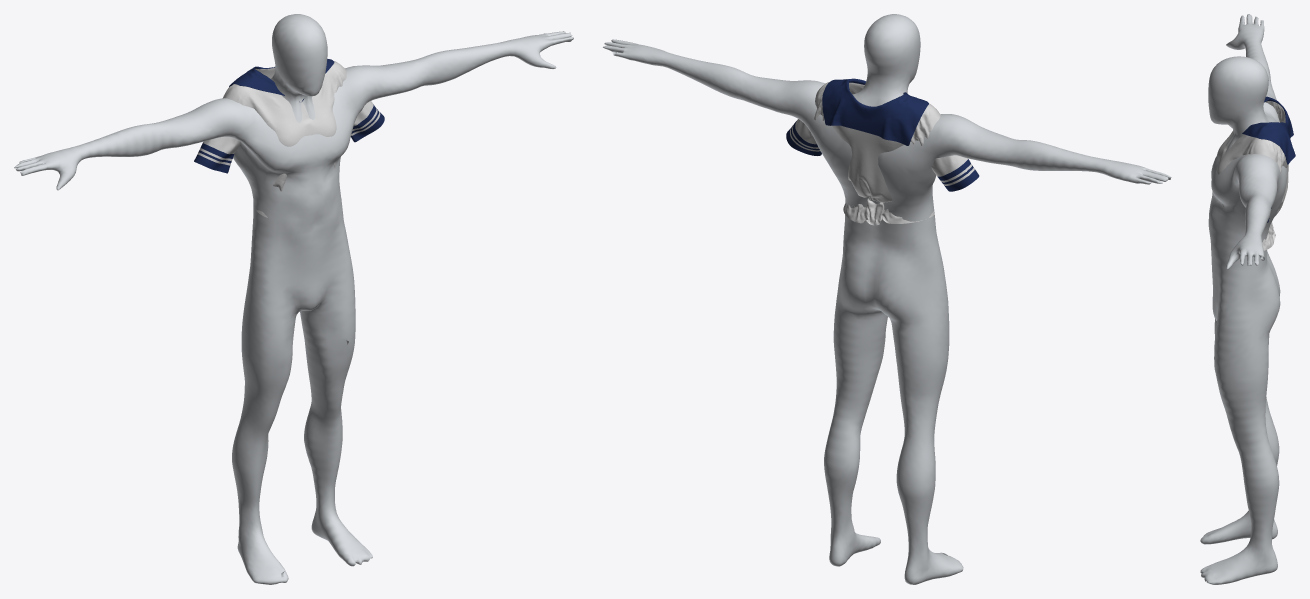
Rendered from fit.glb.
3 renders of one model, left to right at view 1: azimuth 30°, elevation 25°; view 2: azimuth 150°, elevation 25°; view 3: azimuth 270°, elevation 25°, orthographic. The views are drawn at different scales.
Parts seen in each view (by area): view 1: AtelierX_mannequin_180cm, japanese-shirt-part-2-from-node-4, japanese-shirt-part-3-from-node-5; view 2: AtelierX_mannequin_180cm, japanese-shirt-part-3-from-node-5, japanese-shirt-part-1-from-node-3, japanese-shirt-part-2-from-node-4; view 3: AtelierX_mannequin_180cm, japanese-shirt-part-2-from-node-4, japanese-shirt-part-3-from-node-5, japanese-shirt-part-1-from-node-3.
Boxes of the visible parts, <box> form: AtelierX_mannequin_180cm: <box>14,14,573,584</box>; japanese-shirt-part-2-from-node-4: <box>197,61,380,217</box>; japanese-shirt-part-3-from-node-5: <box>194,59,384,173</box>; AtelierX_mannequin_180cm: <box>603,14,1171,584</box>; japanese-shirt-part-3-from-node-5: <box>786,78,979,191</box>; japanese-shirt-part-1-from-node-3: <box>820,82,928,225</box>; japanese-shirt-part-2-from-node-4: <box>790,82,974,224</box>; AtelierX_mannequin_180cm: <box>1200,14,1287,584</box>; japanese-shirt-part-2-from-node-4: <box>1216,130,1288,250</box>; japanese-shirt-part-3-from-node-5: <box>1242,96,1295,222</box>; japanese-shirt-part-1-from-node-3: <box>1262,101,1288,250</box>.
Bounding box in the file's own units: 1.93 × 1.8 × 0.3106.
Materials: 3 (2 with a texture image).
